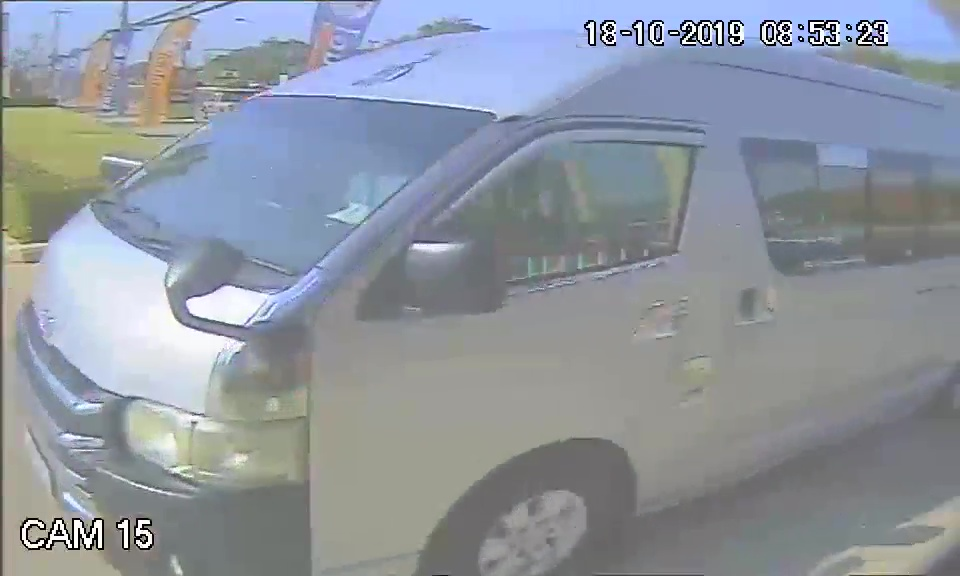van: (17, 26, 916, 573)
